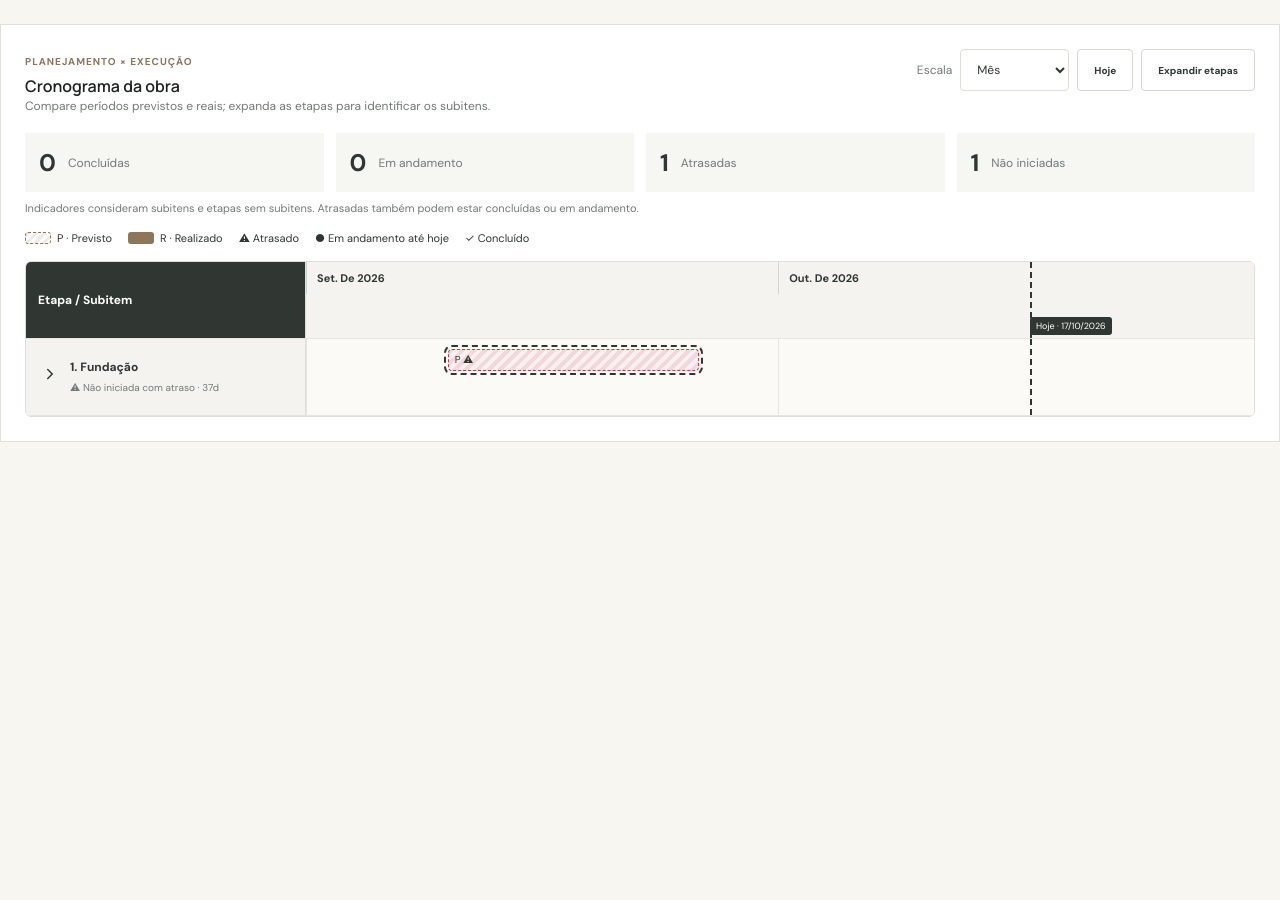
Test: starts collapsed, expands children with parent colors and displays existing dates on click
This screenshot has width=1280, height=900.
Expected: the text "Escavação" is not shown
Step 1. Click the button named "Expandir Fundação" → click(50, 376), box [38,362,62,391]
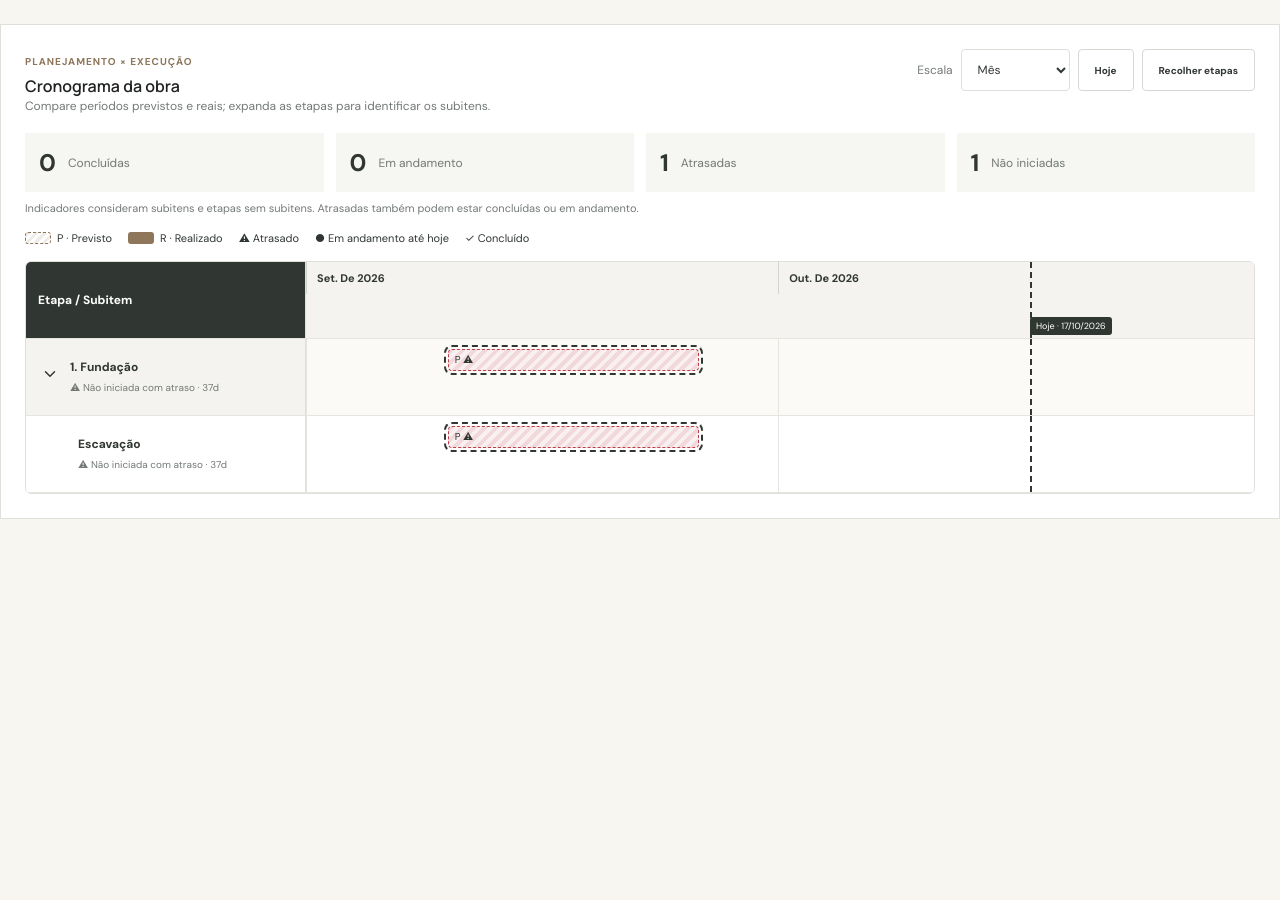
Step 2. Click the text "Escavação" → click(109, 444), box [78,436,141,452]
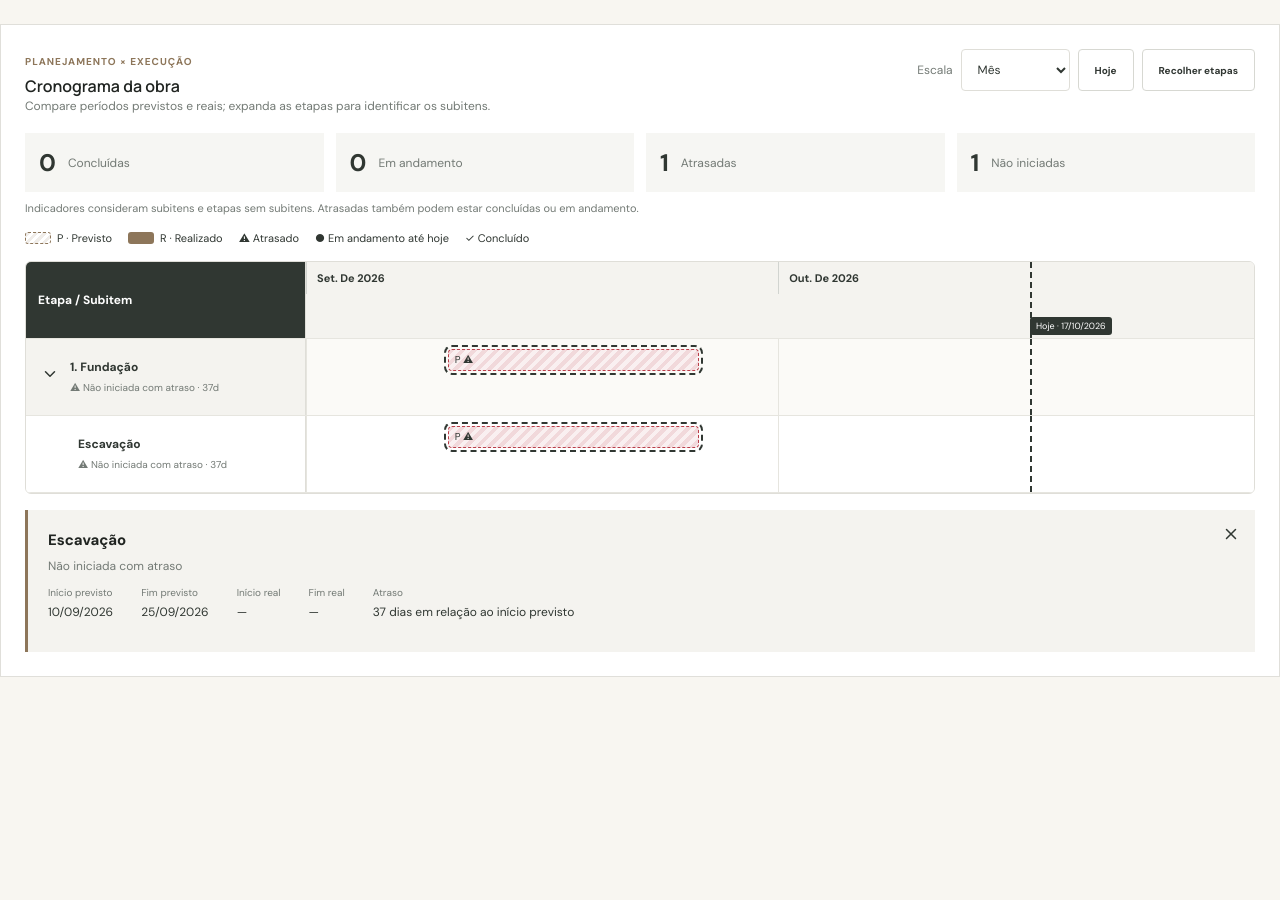
Now the heading "Escavação" is shown, box [48,530,126,550]
Now the text "10/09/2026" is shown, box [48,604,113,620]
Now the text "Início real" is shown, box [237,586,280,598]
Step 3. Click the button named "Fechar detalhes da atividade" → click(1231, 536), box [1219,522,1243,550]
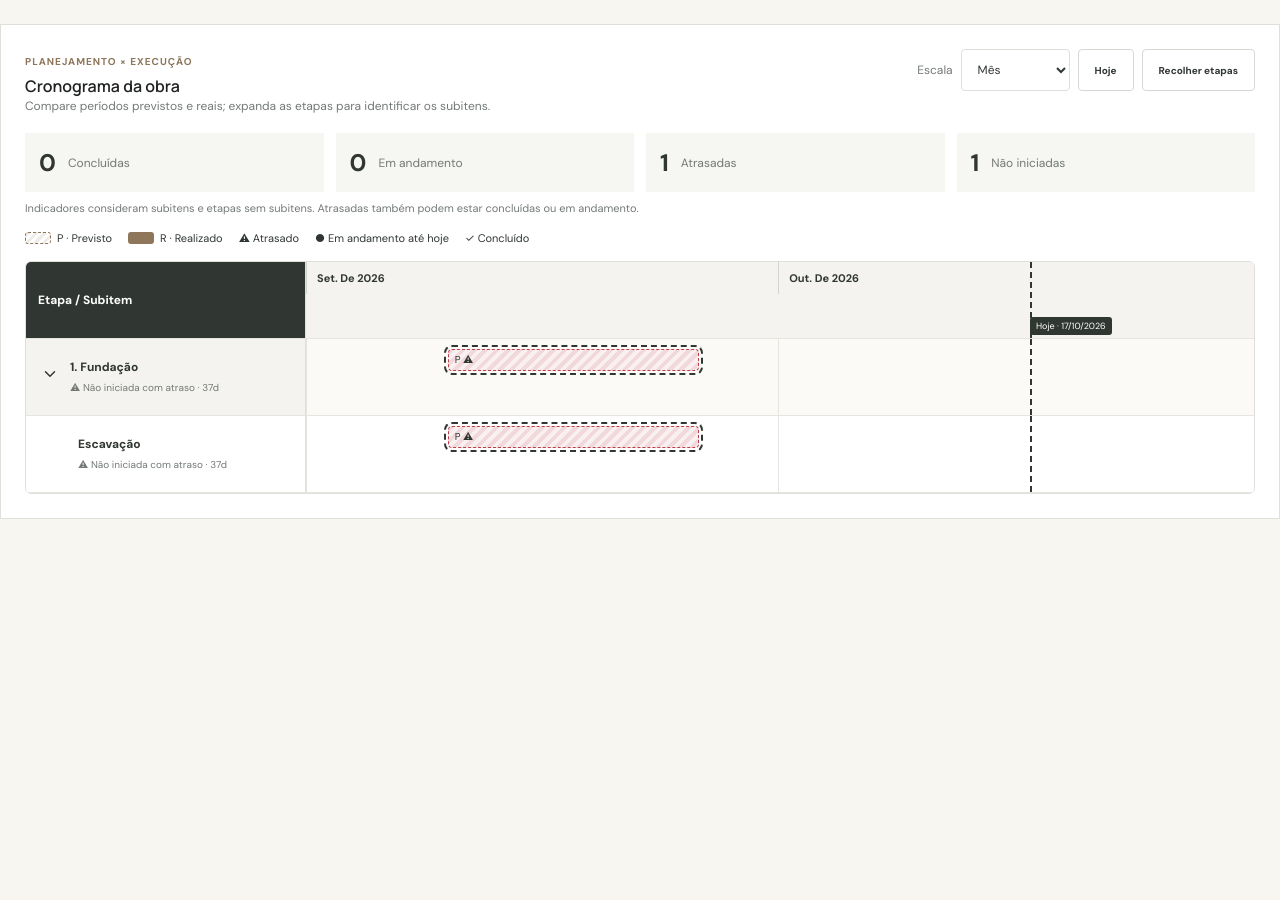
Step 4. Click the button named "Recolher Fundação" → click(50, 376), box [38,362,62,391]
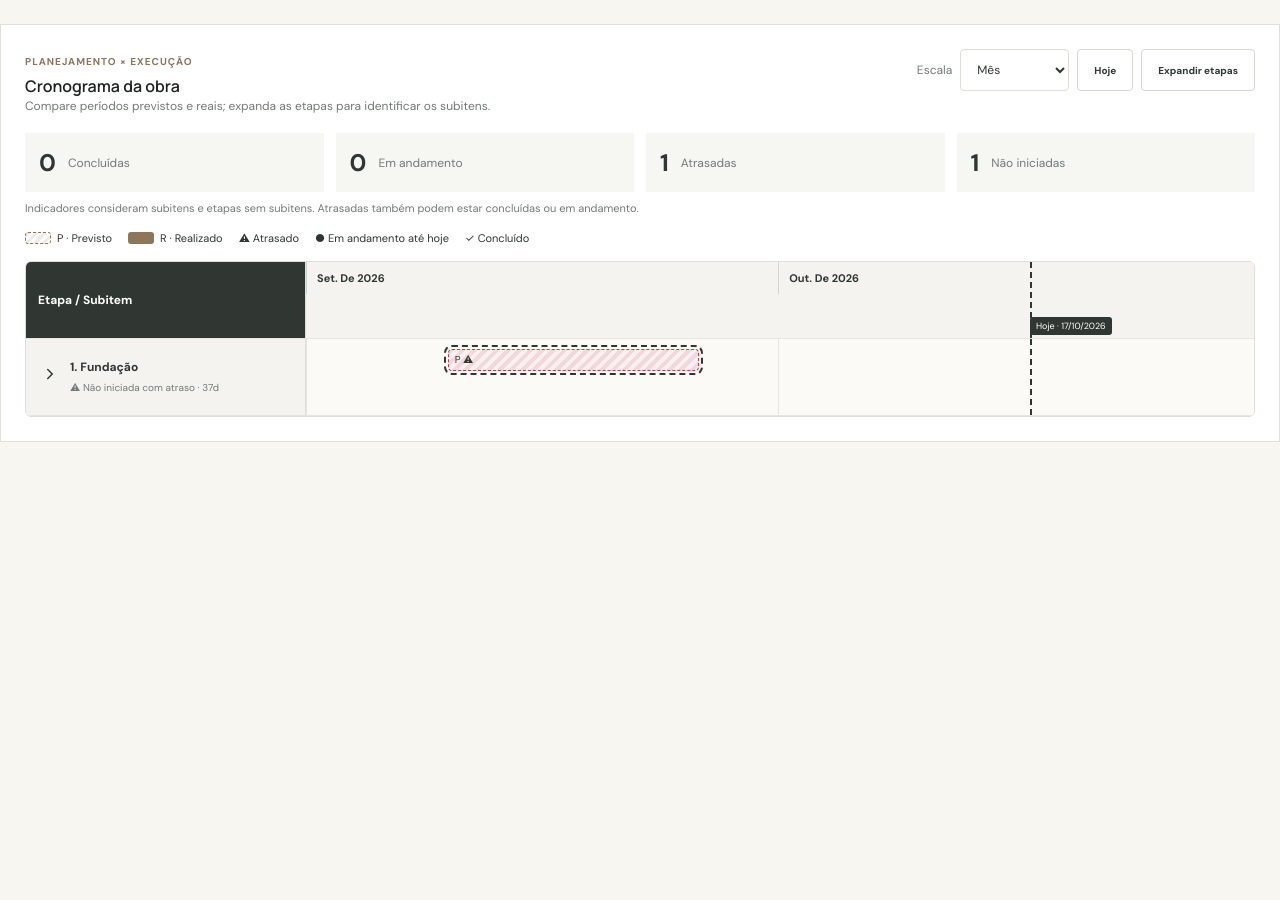
Now the button "Escavação" is gone
